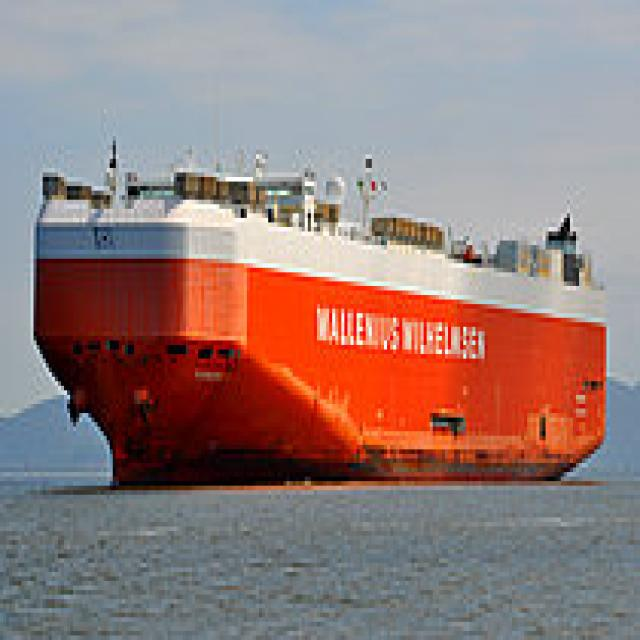Carrier: (28, 127, 606, 490)
